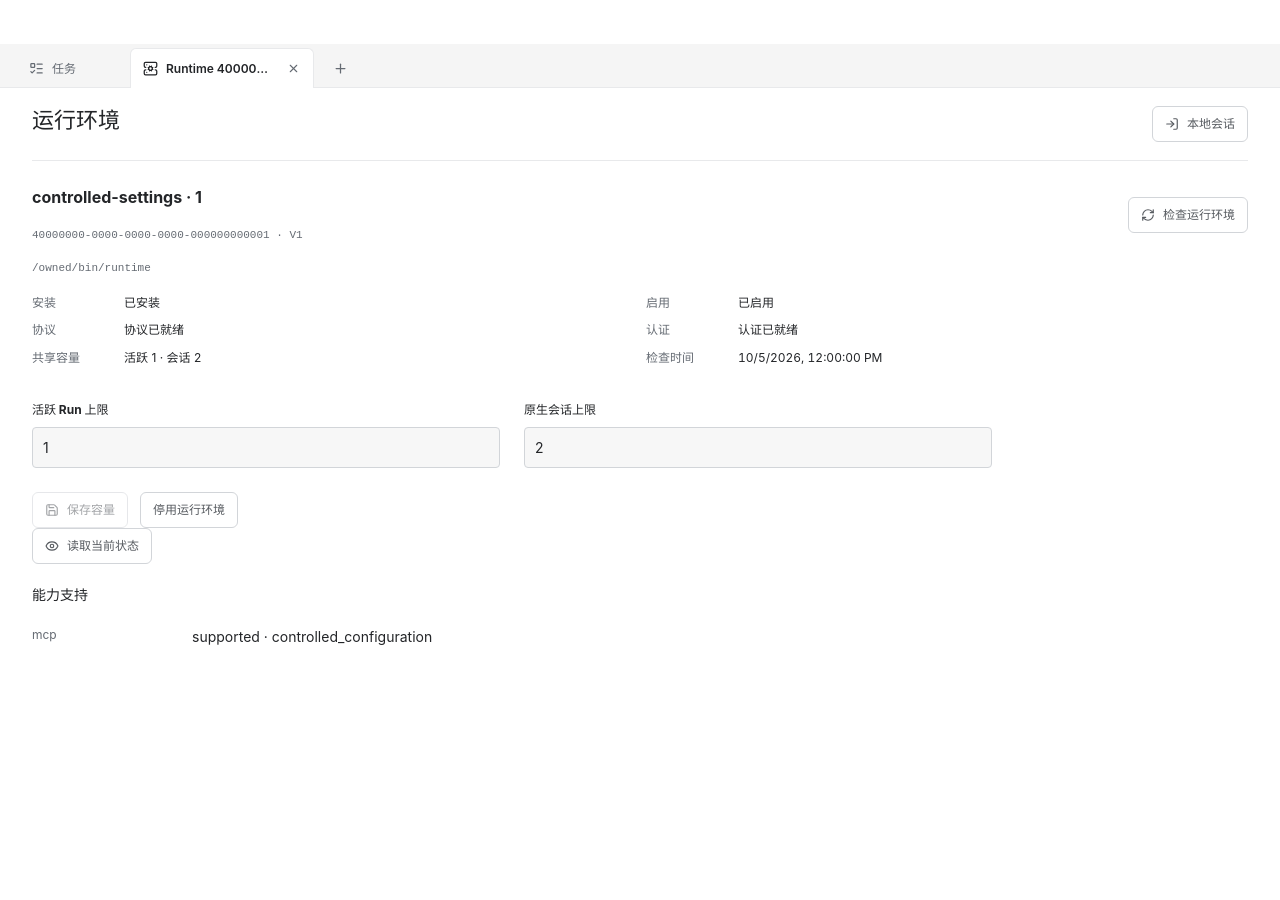
Test: explicit runtime management › observes the exact runtime after a lost status reply without proving or resending the writer
Click the button "停用运行环境". click: (189, 510)
box: x1=140 y1=492 x2=238 y2=528
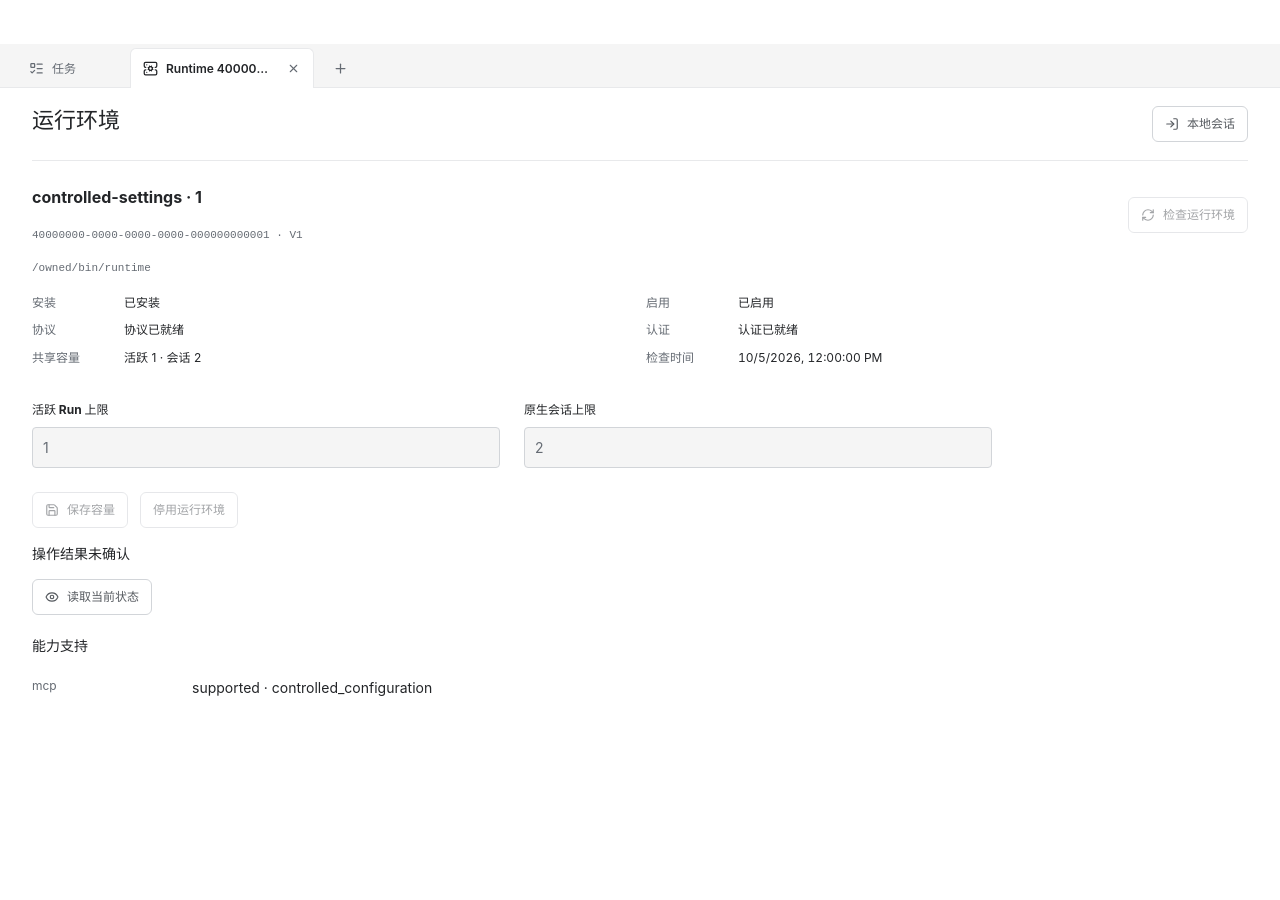
expect the text "操作结果未确认" is shown: met, box x1=32 y1=545 x2=130 y2=562
Click the button "读取当前状态". click: (92, 597)
box: x1=32 y1=579 x2=152 y2=615
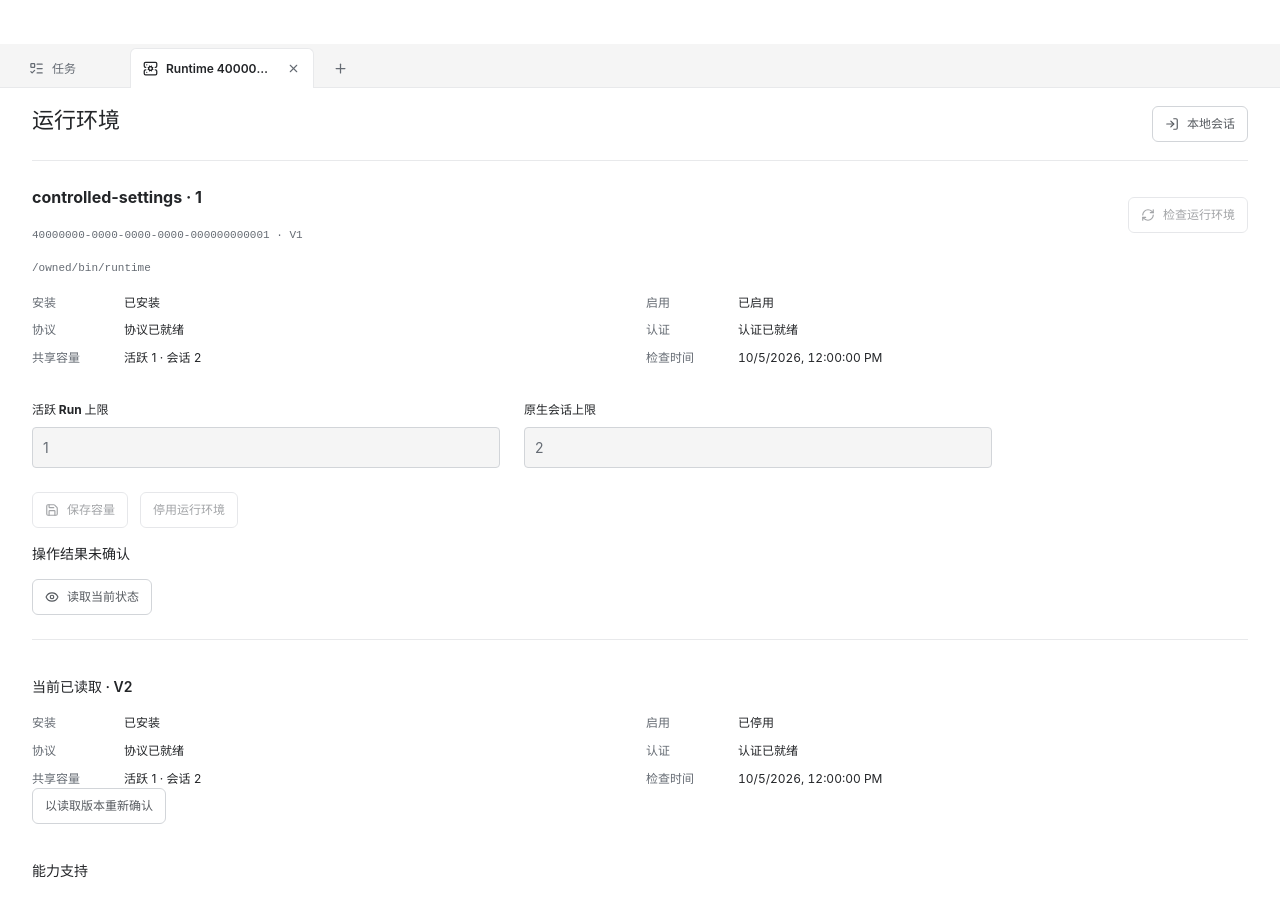
expect the text "操作结果未确认" is shown: met, box x1=32 y1=545 x2=130 y2=562
expect the heading "当前已读取 · V2" is shown: met, box x1=32 y1=678 x2=132 y2=695
